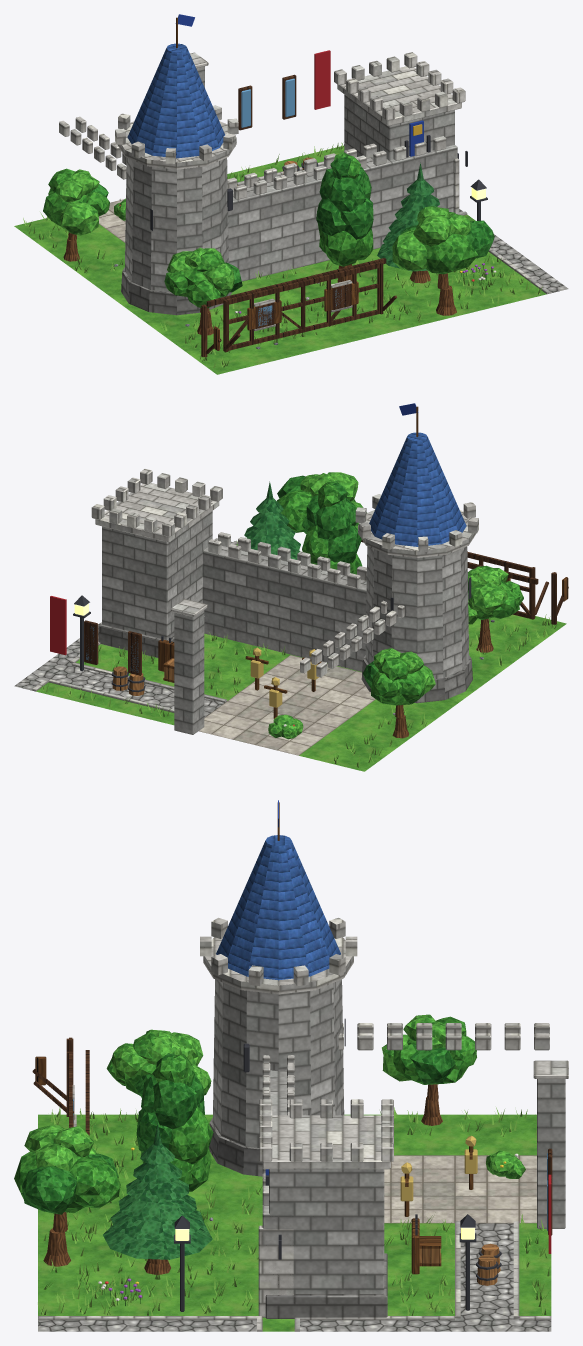
Rendered from chunk_1_1.glb.
3 renders of one model, top to bottom at view 1: azimuth 30°, elevation 25°; view 2: azimuth 150°, elevation 25°; view 3: azimuth 270°, elevation 25°, orthographic. The views are drawn at different scales.
Visible parts, largest first — view 1: chunk_1_1; view 2: chunk_1_1; view 3: chunk_1_1.
Boxes of the visible parts, box(x1,y1,x2,y2) form: chunk_1_1: box(14, 14, 568, 374); chunk_1_1: box(14, 403, 568, 771); chunk_1_1: box(14, 800, 568, 1331).
Size of the model in its own units: 16.61 by 12.09 by 17.3.
29 materials, 17 textured.
